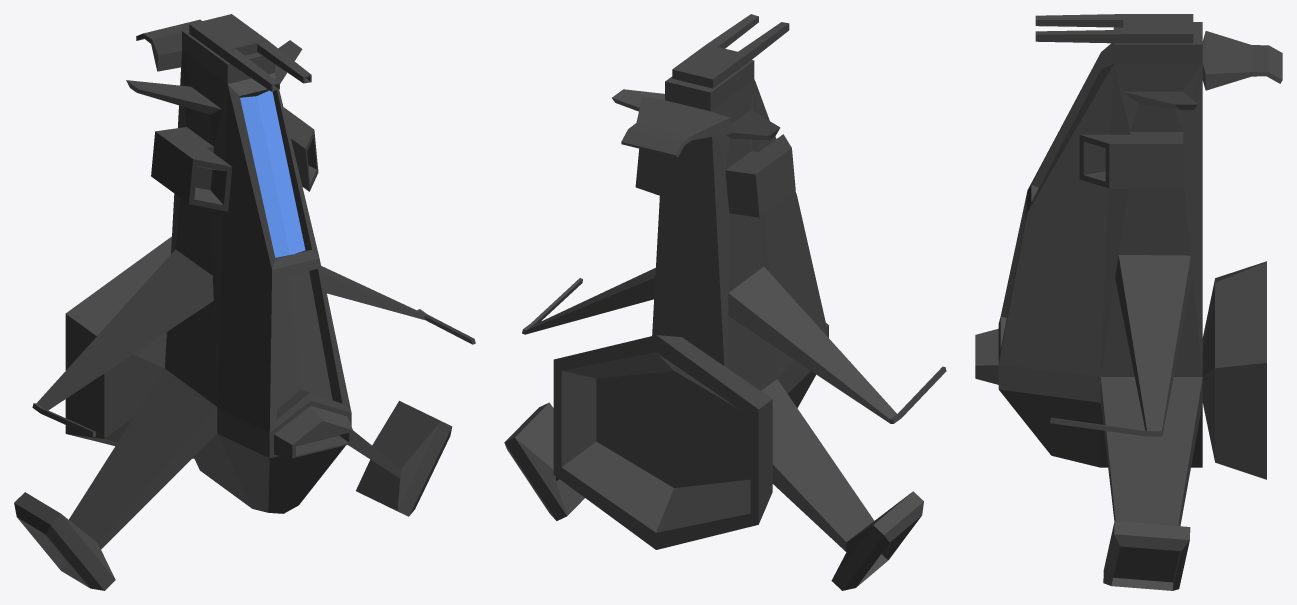
The model's file is AetherVoyager465.fbx.
3 views of the same model, side by side, from view 1: azimuth 30°, elevation 25°; view 2: azimuth 150°, elevation 25°; view 3: azimuth 270°, elevation 25° (orthographic). The views are drawn at different scales.
Visible parts, largest first — view 1: AetherVoyager465; view 2: AetherVoyager465; view 3: AetherVoyager465.
Boxes of the visible parts, x1,y1,x2,y2 form: AetherVoyager465: (14, 14, 475, 590); AetherVoyager465: (504, 14, 946, 590); AetherVoyager465: (975, 14, 1282, 590).
Bounding box in the file's own units: 9.89 × 11.88 × 6.7.
